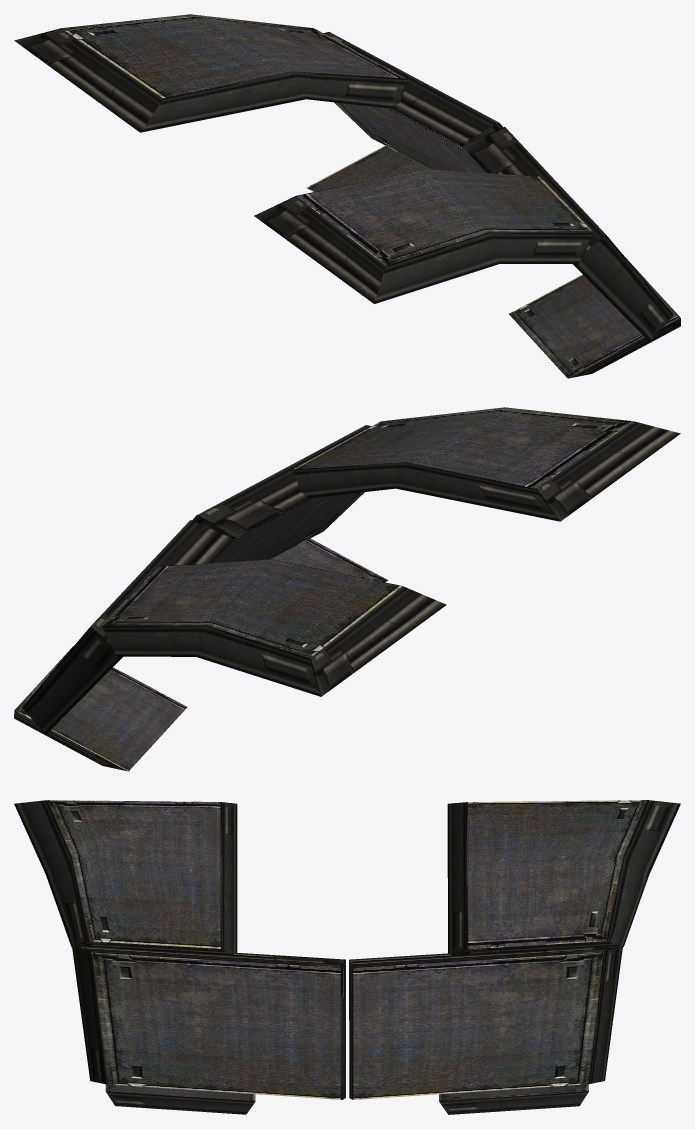
File: heav_unit_iron.obj
3 views of the same model, one above another, from view 1: azimuth 30°, elevation 25°; view 2: azimuth 150°, elevation 25°; view 3: azimuth 270°, elevation 25° (orthographic). The views are drawn at different scales.
Parts seen in each view (by area): view 1: polySurface64; view 2: polySurface64; view 3: polySurface64.
Boxes of the visible parts, x1,y1,x2,y2 form: polySurface64: [14, 14, 680, 378]; polySurface64: [14, 407, 680, 771]; polySurface64: [14, 800, 680, 1114].
Size of the model in its own units: 21.69 by 10.49 by 35.24.
Materials: 1 (1 with a texture image).
